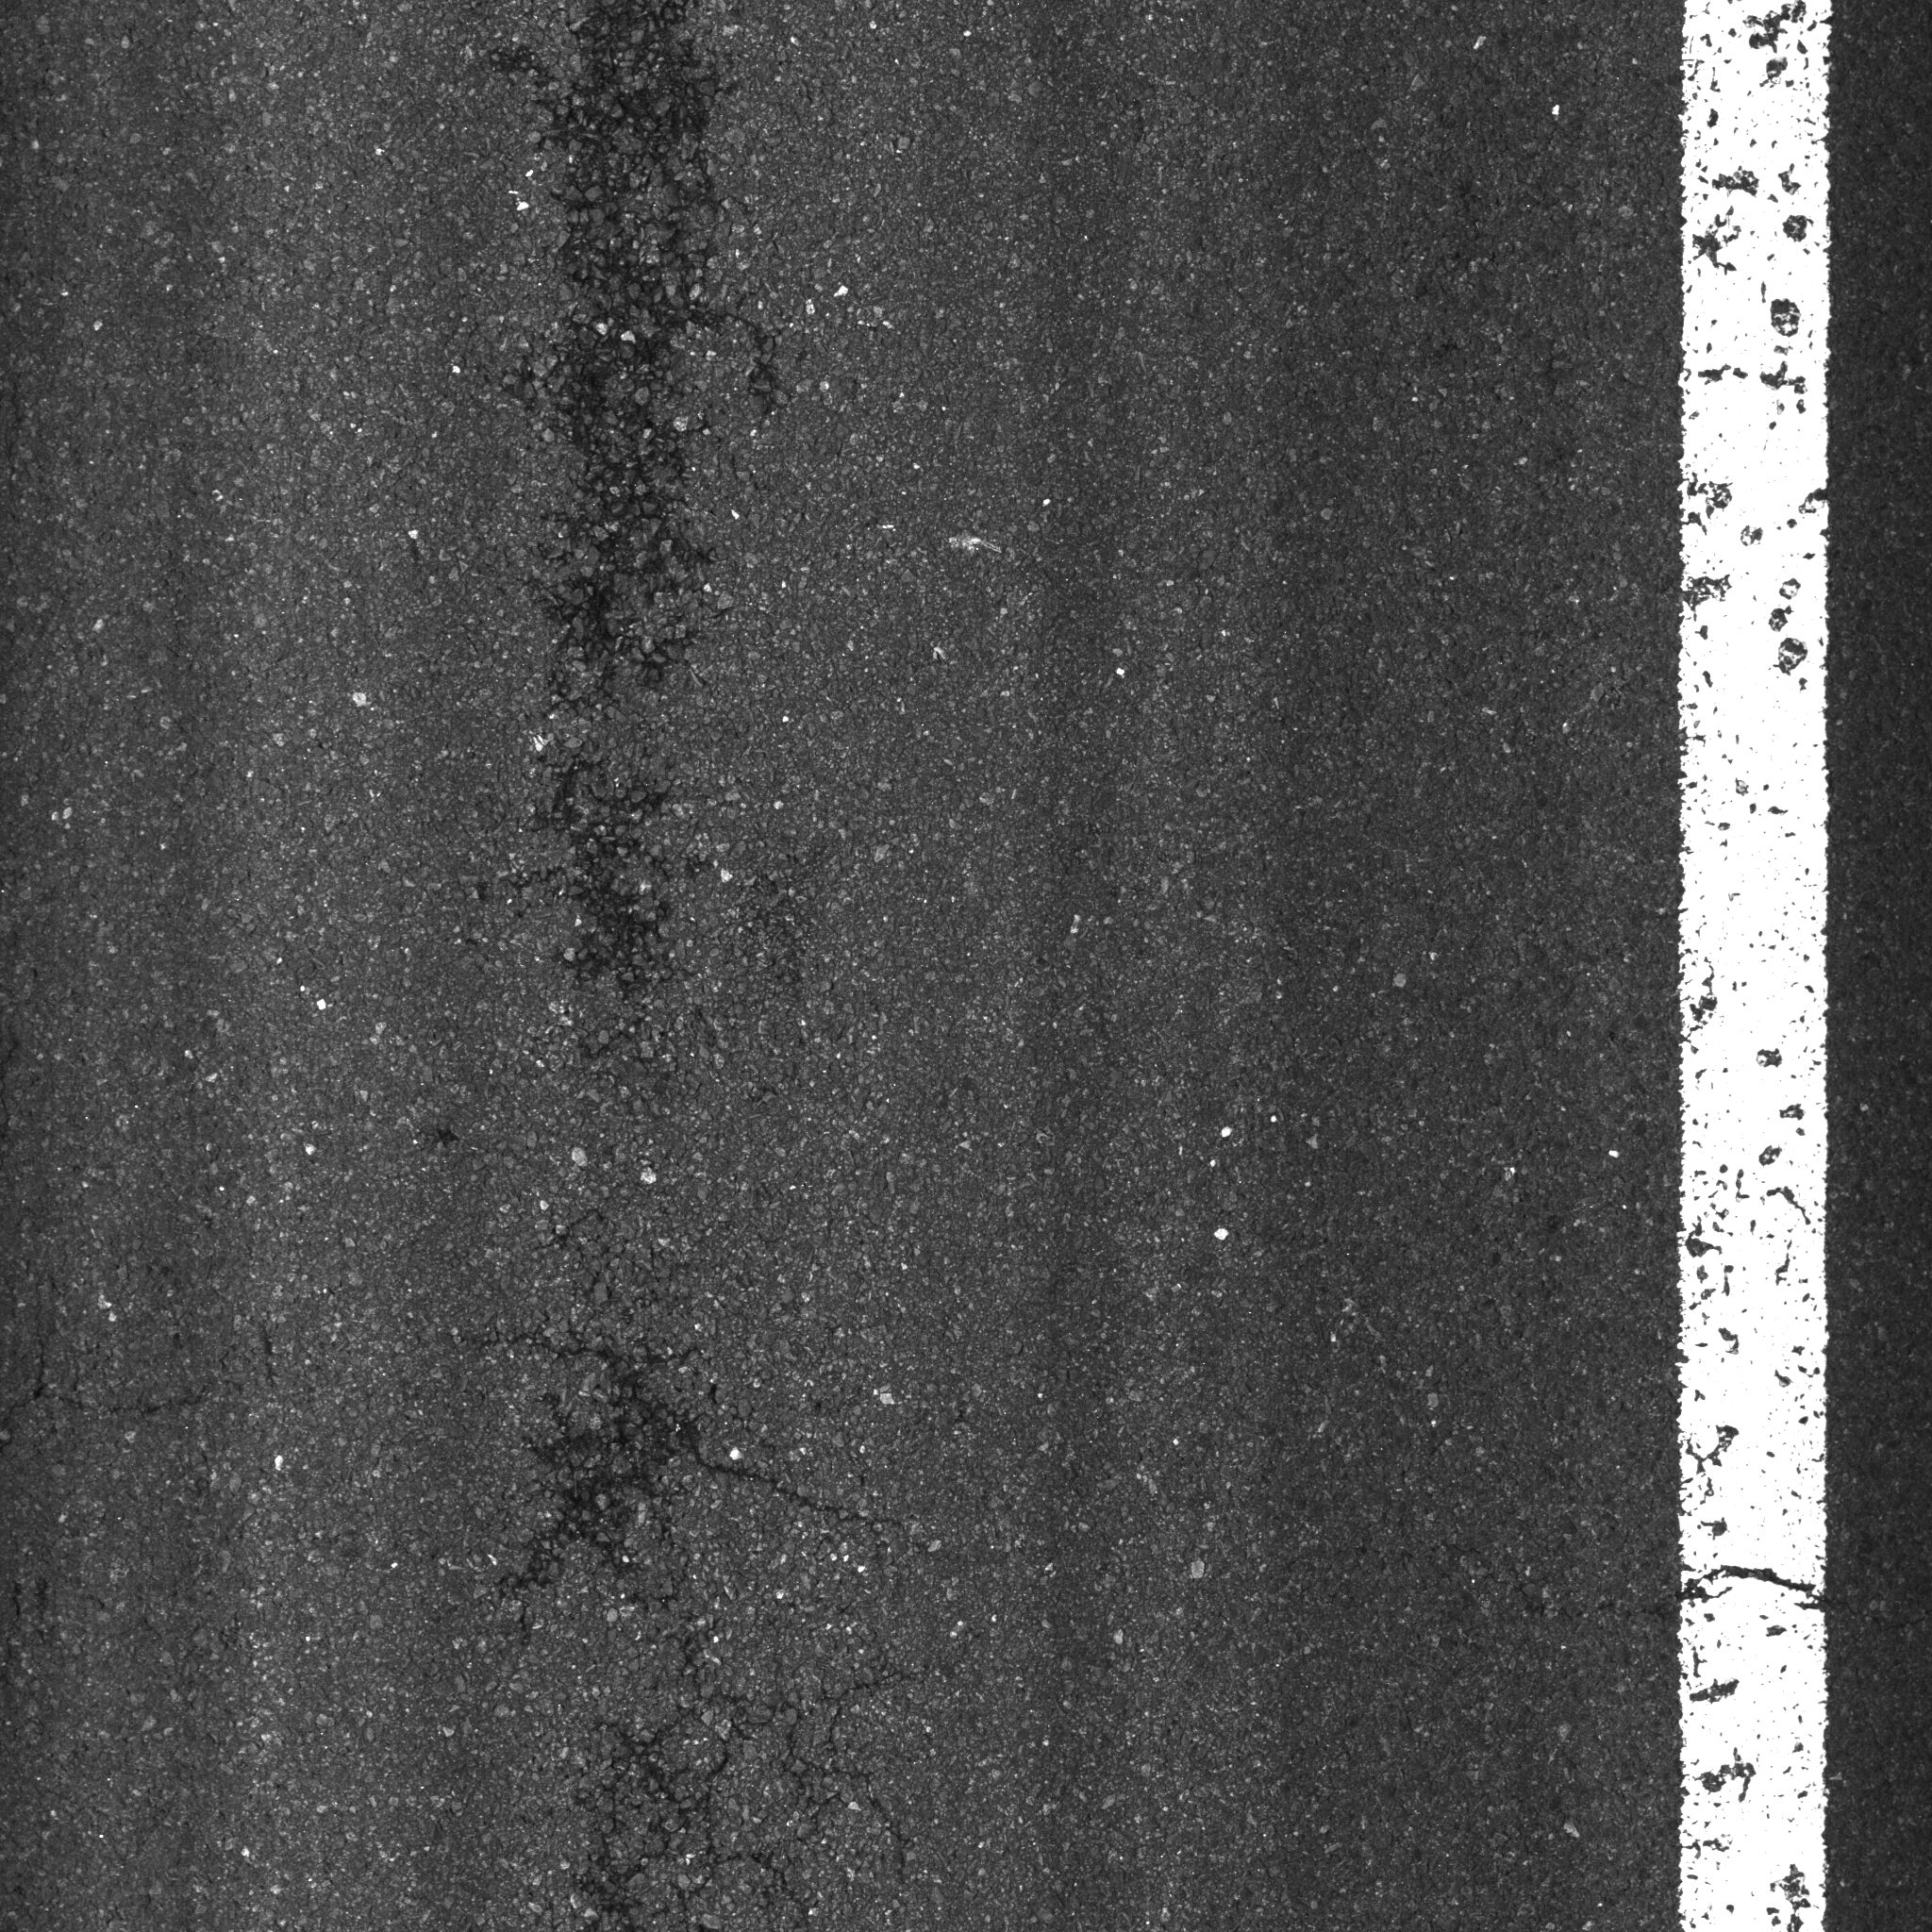alligator: (428, 5, 869, 1072), (403, 1247, 945, 1932)
